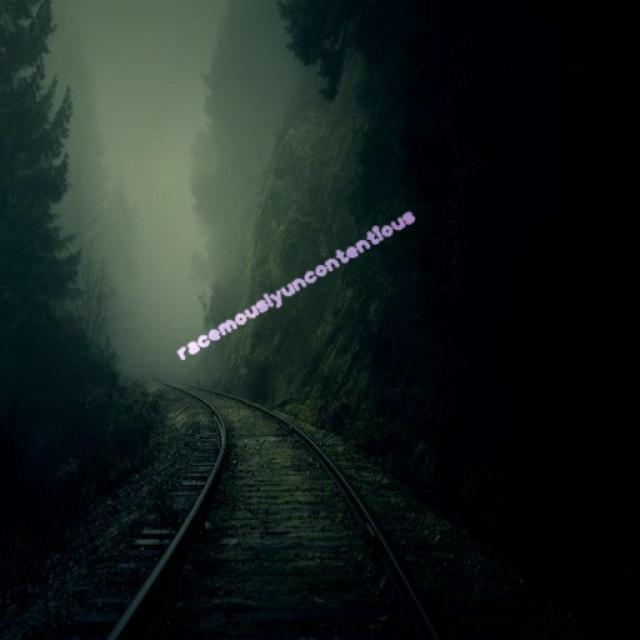watermark: (176, 204, 417, 362)
